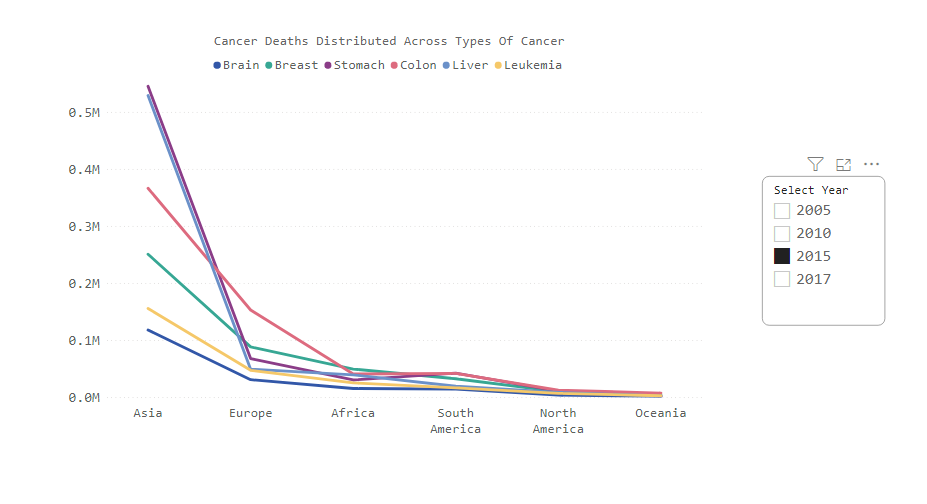

The page's visual inventory and layout, read from the dashboard file:
{"tool":"powerbi","page":{"name":"Task Page 2","canvas":[1280,720],"ordinal":2},"visuals":[{"type":"lineChart","title":"Cancer Deaths Distributed Across Types Of Cancer","fields":{"Y":["Sum(age_editied.type_death_edited.Brain)","Sum(age_editied.type_death_edited.Breast)","Sum(age_editied.type_death_edited.Stomach)","Sum(age_editied.type_death_edited.Colon)","Sum(age_editied.type_death_edited.Liver)","Sum(age_editied.type_death_edited.Leukemia)"],"Category":["age_editied.continent_1.continent"]},"box":[80.6,53.8,910.4,574.5],"z":0},{"type":"slicer","fields":{"Values":["age_editied.Year"]},"box":[1058.3,253.6,173,210],"z":1000}]}

Visuals, with their boxes on the page's 1280x720 design canvas (x1, y1, x2, y2). These are canvas units, not pixel positions in the 927x504 screenshot, which may show the page scaled, cropped or inside an application window:
"Cancer Deaths Distributed Across Types Of Cancer" lineChart: (81,54,991,628)
slicer - age_editied.Year: (1058,254,1231,464)
